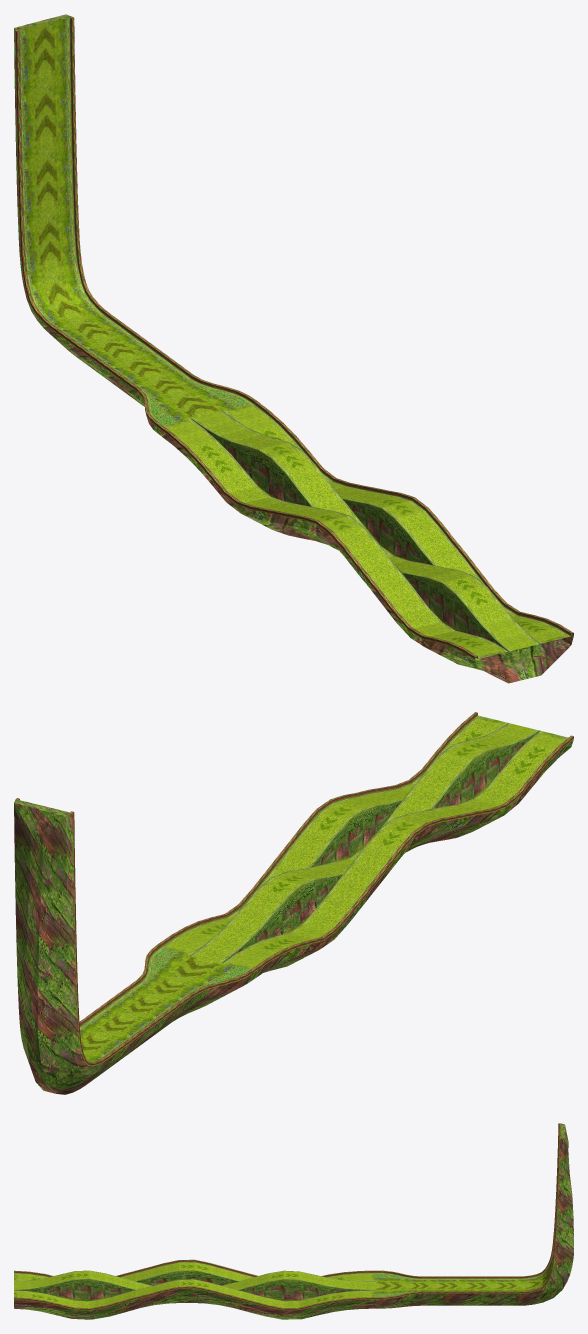
The model's file is 2P_Frog_forest3.obj.
The picture shows the model from 3 angles, top to bottom: view 1: azimuth 30°, elevation 25°; view 2: azimuth 150°, elevation 25°; view 3: azimuth 270°, elevation 25°; orthographic projection. The views are drawn at different scales.
Parts seen in each view (by area): view 1: obj1, Object_2; view 2: Object_2, obj1; view 3: Object_2, obj1.
Part boxes in pixels (x1=…): obj1: x1=14, y1=14, x2=570, y2=658; Object_2: x1=14, y1=18, x2=573, y2=683; Object_2: x1=14, y1=712, x2=573, y2=1094; obj1: x1=14, y1=715, x2=568, y2=1062; Object_2: x1=14, y1=1124, x2=573, y2=1319; obj1: x1=14, y1=1123, x2=568, y2=1308.
Size of the model in its own units: 191 by 595 by 1641.
11 materials, 11 textured.
